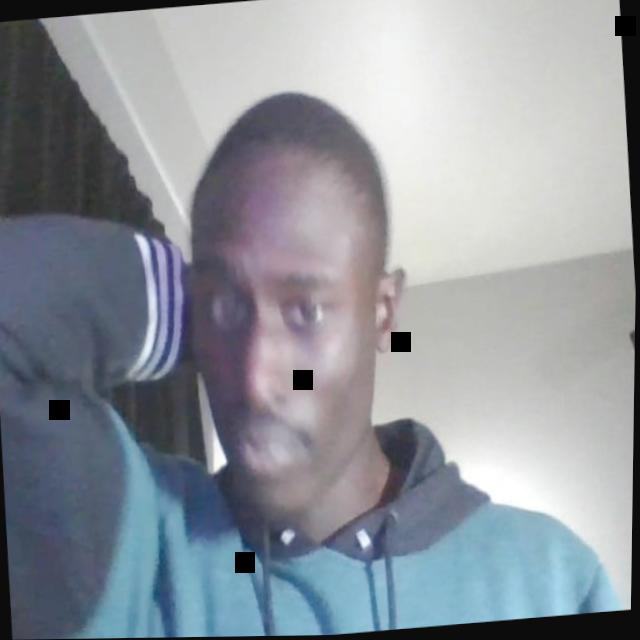NO-Mask: (184, 180, 392, 523)
